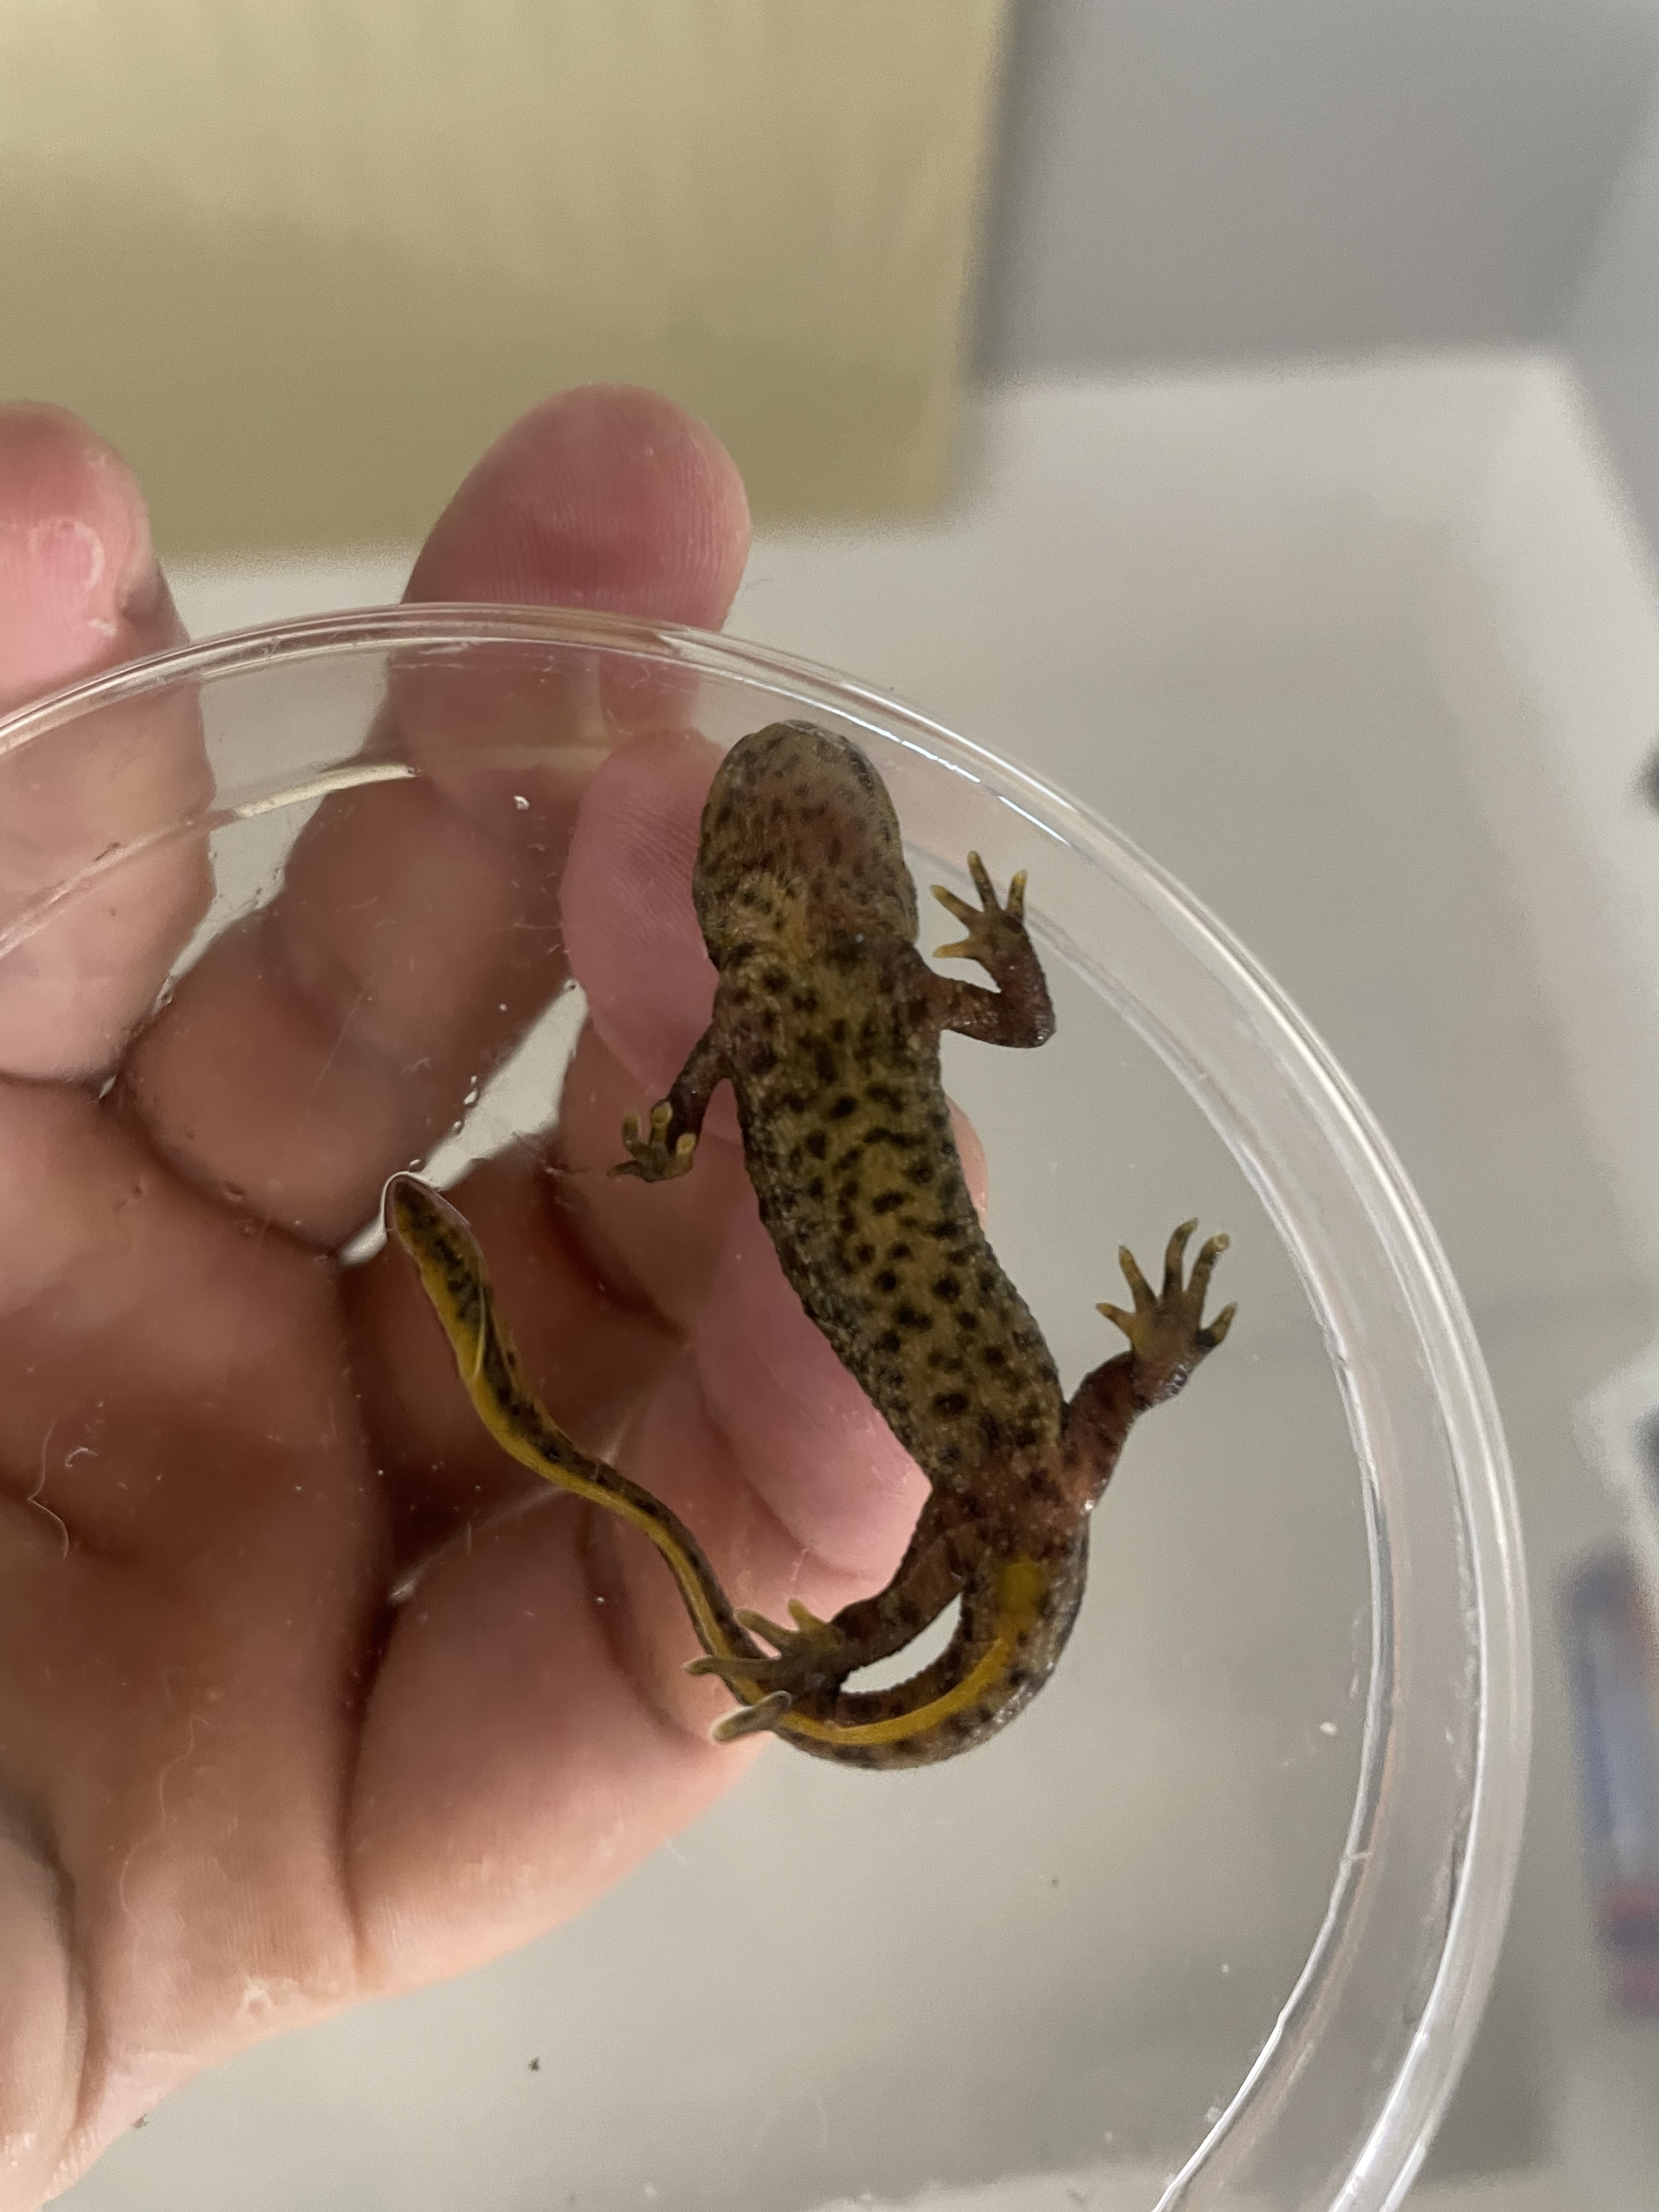newt_ribbed: (734, 1031, 1063, 1491)
